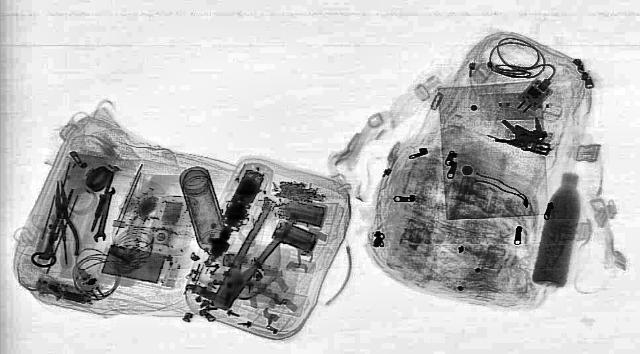Pliers: (200, 206, 302, 312), (46, 181, 80, 255)
Wrench: (92, 186, 114, 241)
